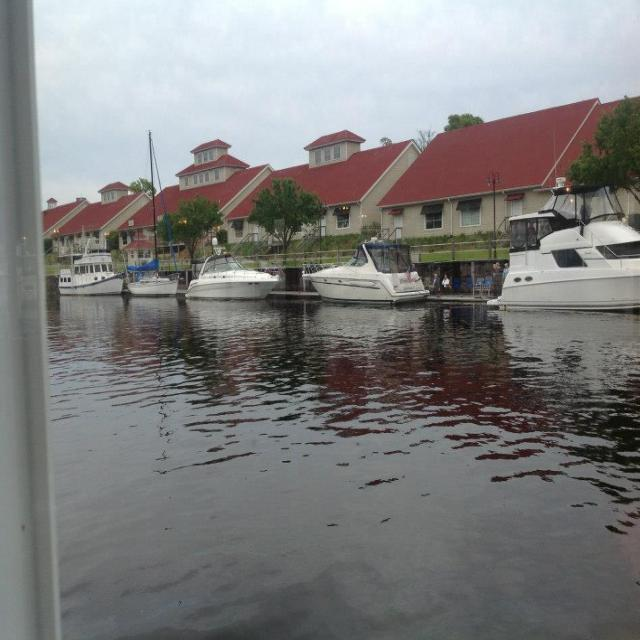houseboat: (491, 194, 640, 316), (309, 237, 428, 306), (183, 239, 279, 300), (55, 242, 121, 294)
sailboat: (121, 133, 180, 296)
